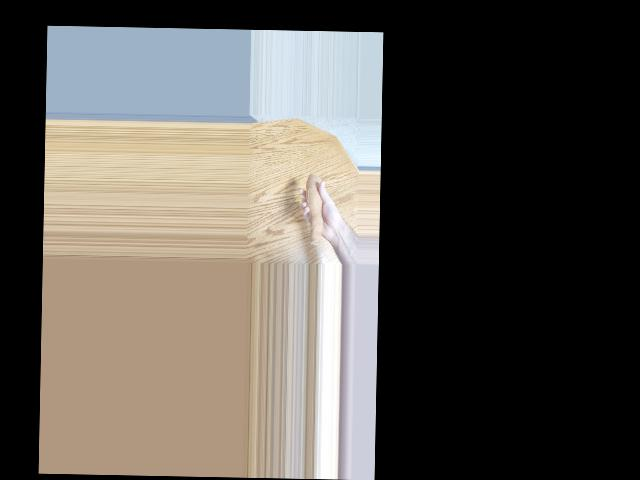sweet_potato: (302, 167, 332, 248)
